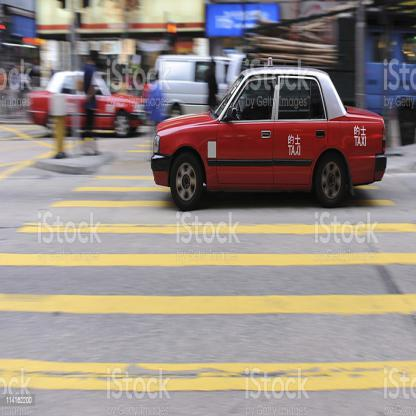taxi: (150, 49, 390, 212)
